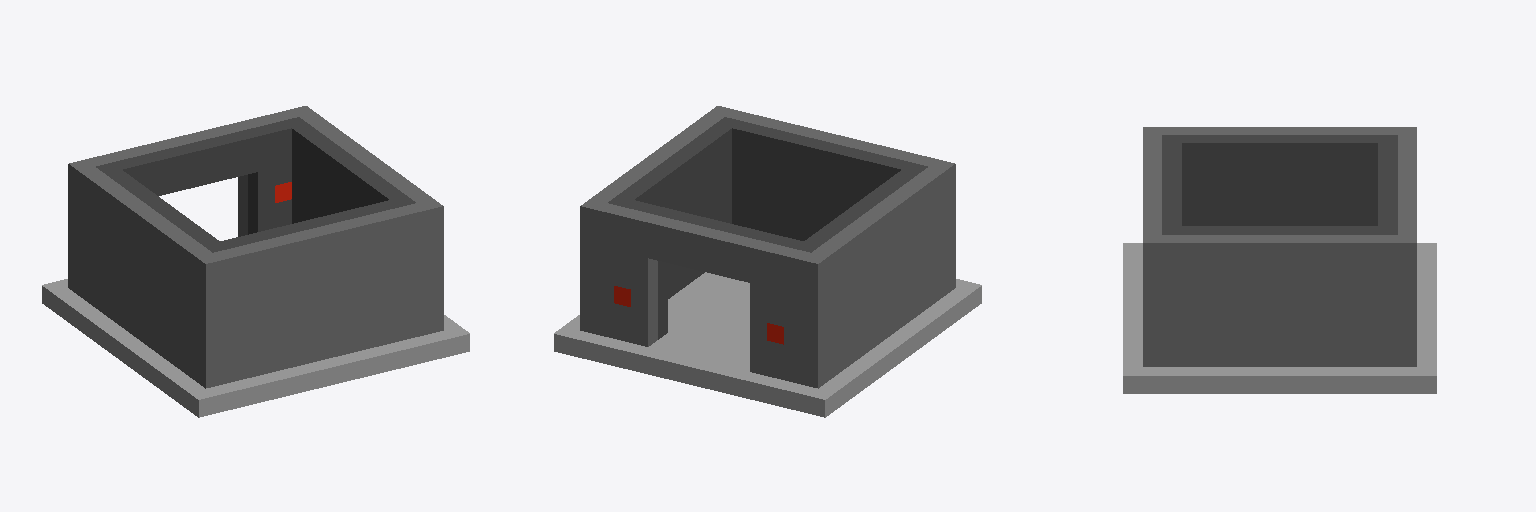
3 views of the same model, side by side, from view 1: azimuth 30°, elevation 25°; view 2: azimuth 150°, elevation 25°; view 3: azimuth 270°, elevation 25° (orthographic).
Visible parts, largest first — view 1: Towar-2; view 2: Towar-2; view 3: Towar-2.
Part boxes in pixels (bbox=[...]): Towar-2: bbox=[42, 106, 469, 417]; Towar-2: bbox=[554, 106, 981, 417]; Towar-2: bbox=[1123, 127, 1436, 393].
Size of the model in its own units: 16 by 8 by 16.
1 materials, 1 textured.